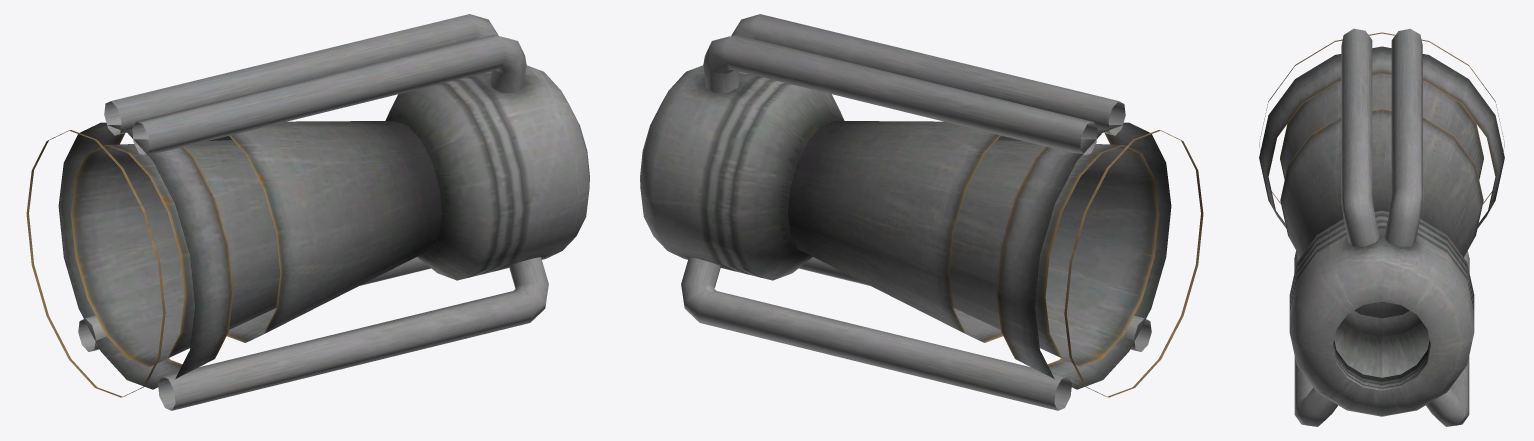
The model's file is ship_component_booster_s01_l0.fbx.
The picture shows the model from 3 angles, left to right: view 1: azimuth 30°, elevation 25°; view 2: azimuth 150°, elevation 25°; view 3: azimuth 270°, elevation 25°; orthographic projection. The views are drawn at different scales.
Parts seen in each view (by area): view 1: mesh_node; view 2: mesh_node; view 3: mesh_node.
Part boxes in pixels (x1=…): mesh_node: x1=26, y1=14, x2=589, y2=410; mesh_node: x1=640, y1=14, x2=1203, y2=410; mesh_node: x1=1259, y1=28, x2=1504, y2=426.
Bounding box in the file's own units: 1.28 × 0.6526 × 0.6736.
